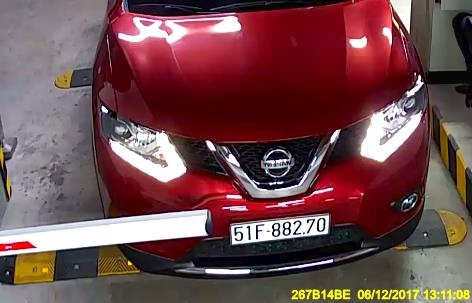plate: (226, 206, 338, 248)
